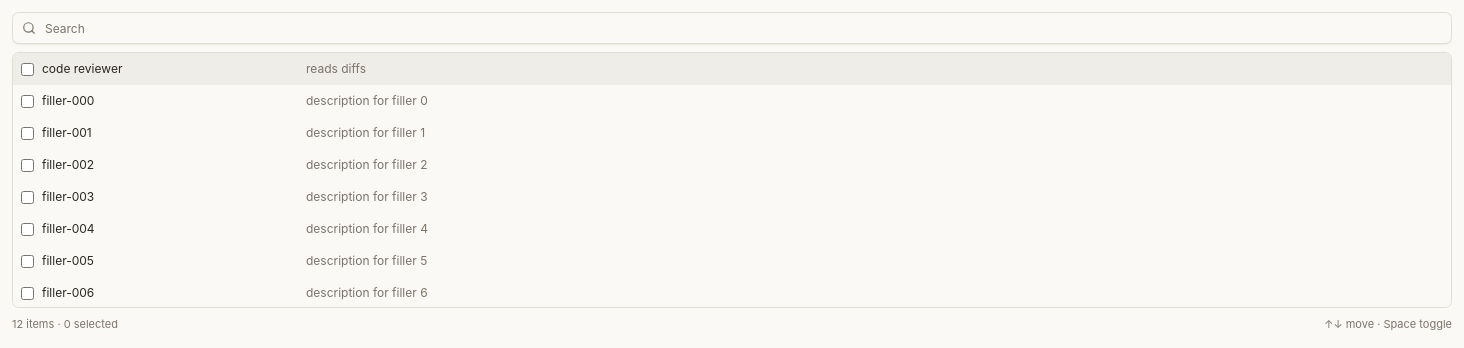
Test case: EntityPicker selection › matches tokens in any order and marks the hits
# Word order the user half-remembers should still land the row.
Type "reviewer code" into the field with placeholder "Search".
click(732, 28); type("reviewer code")  # box [12,12,1452,44]
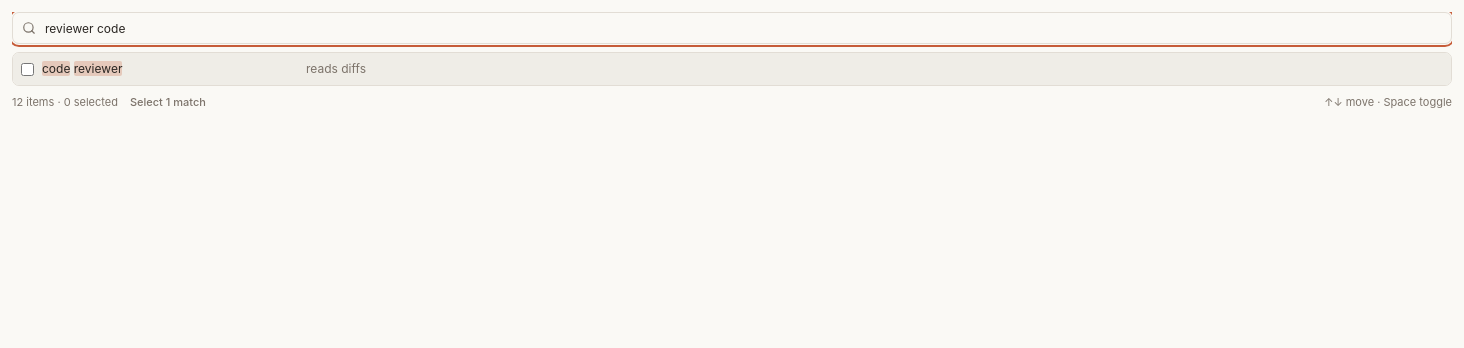
Now the number of checkboxes is 1, box [21,62,34,76]
Now the text "code" is shown 2 times, box [42,61,70,76]; [74,61,122,76]
